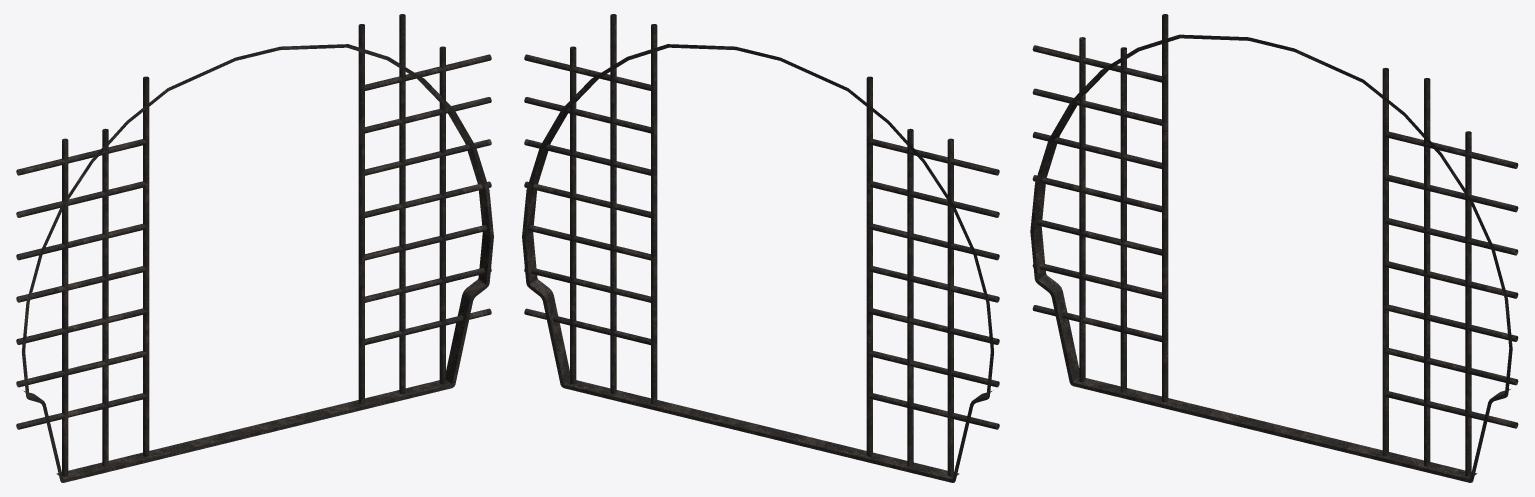
File: bars_metal_3.glb
3 views of the same model, side by side, from view 1: azimuth 30°, elevation 25°; view 2: azimuth 150°, elevation 25°; view 3: azimuth 330°, elevation 25° (orthographic). The views are drawn at different scales.
Parts seen in each view (by area): view 1: bars_metal_3; view 2: bars_metal_3; view 3: bars_metal_3.
Boxes of the visible parts, x1,y1,x2,y2 form: bars_metal_3: [16, 14, 493, 482]; bars_metal_3: [522, 14, 999, 482]; bars_metal_3: [1030, 14, 1518, 482].
Size of the model in its own units: 3.5 by 2.72 by 0.1.
Materials: 1 (1 with a texture image).
